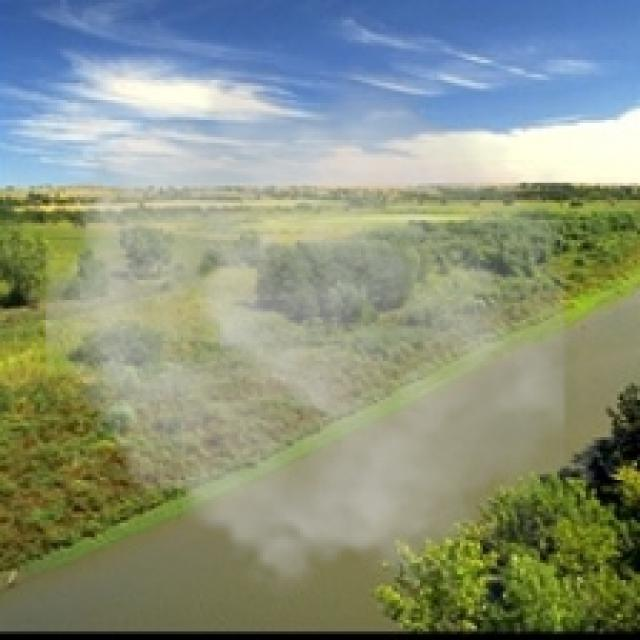smoke: (46, 54, 566, 603)
